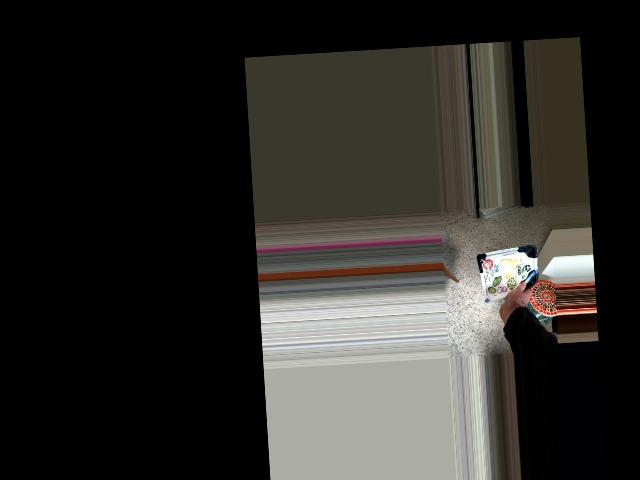cheese: (478, 262, 532, 311)
